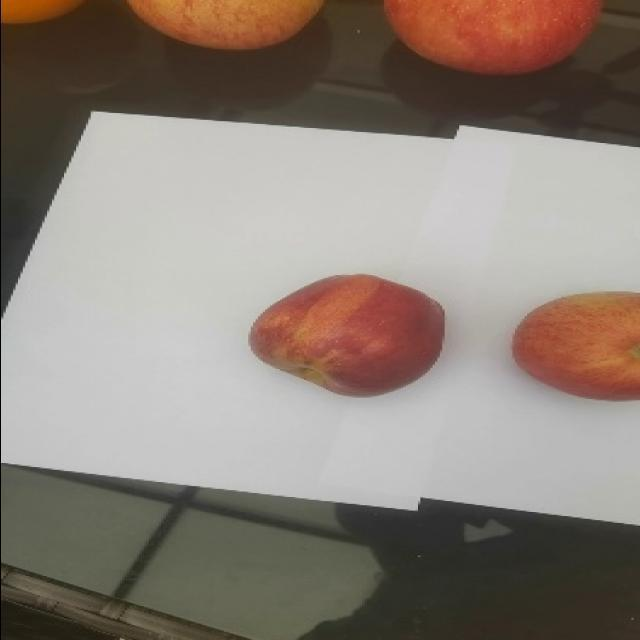Apple: (248, 272, 445, 397), (383, 0, 603, 76), (511, 290, 639, 400), (125, 0, 326, 51), (0, 0, 87, 24)
